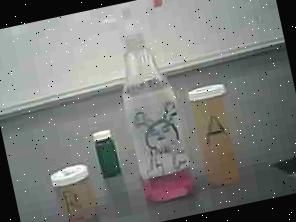Bottle A: (185, 80, 247, 190)
Bottle B: (43, 161, 102, 222)
Bottle C: (85, 126, 126, 186)
hazard: (91, 0, 207, 213)
